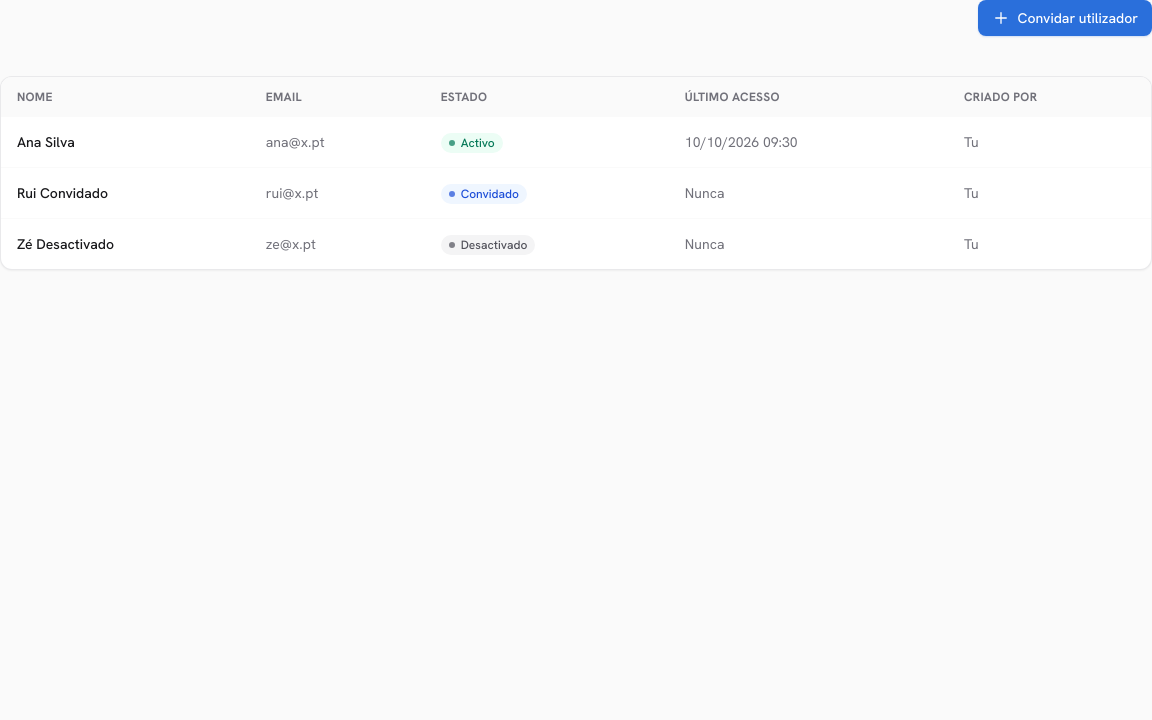
Test case: Equipa — fase 3 · dono › ficha: separador Actividade lista as acções
Step 1. Click the row named "Abrir Ana Silva" → point(46, 142), box x1=1 y1=117 x2=1151 y2=168
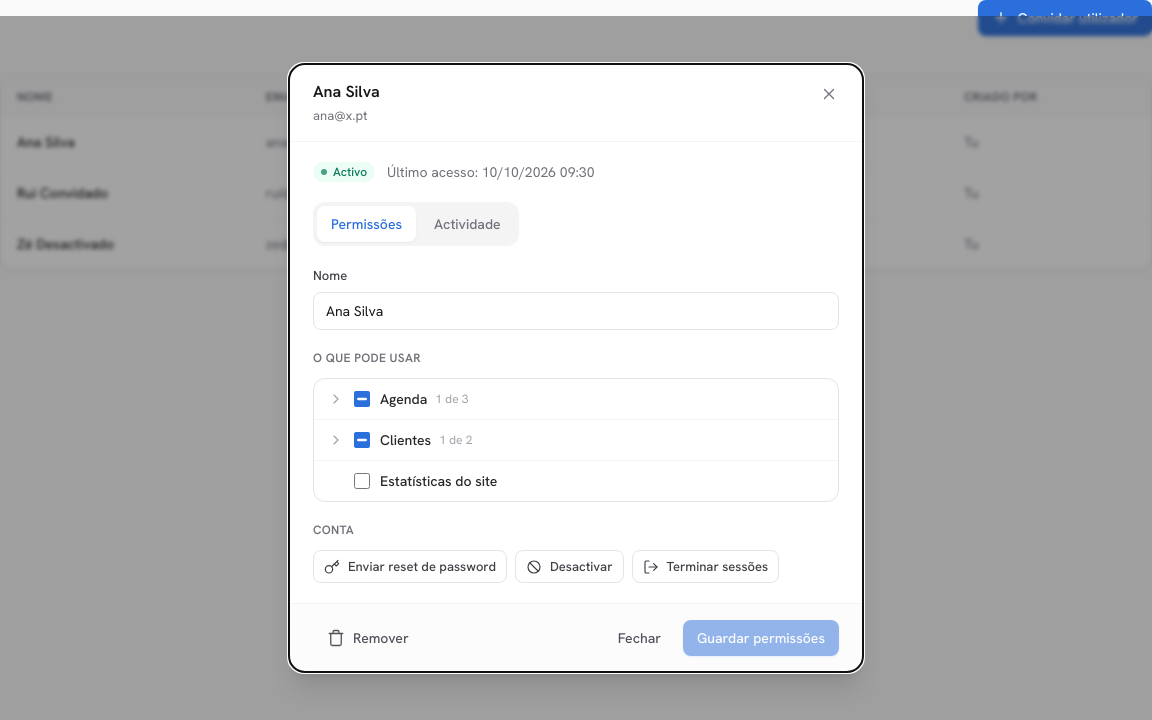
Step 2. Click the tab "Actividade" → point(467, 224), box x1=420 y1=206 x2=515 y2=242
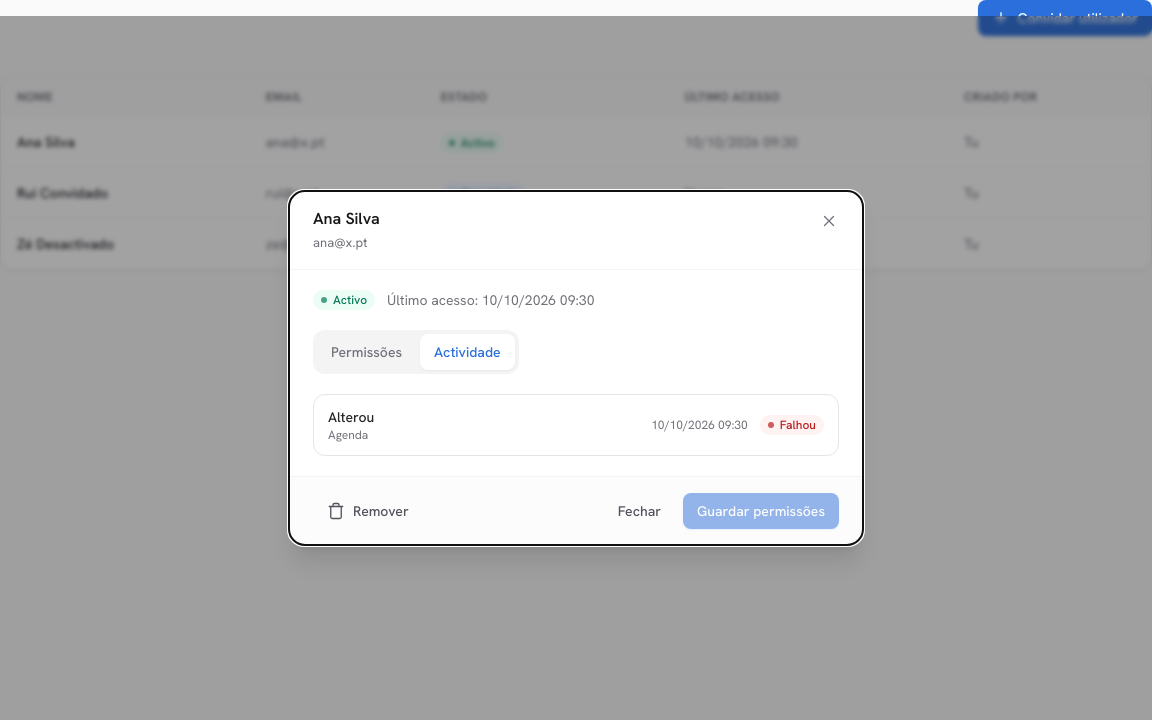
Check: the text "Agenda" is shown, box x1=328 y1=427 x2=374 y2=443
Check: the text "Alterou" is shown, box x1=328 y1=407 x2=374 y2=427
Check: the text "Falhou" is shown, box x1=760 y1=415 x2=824 y2=435
